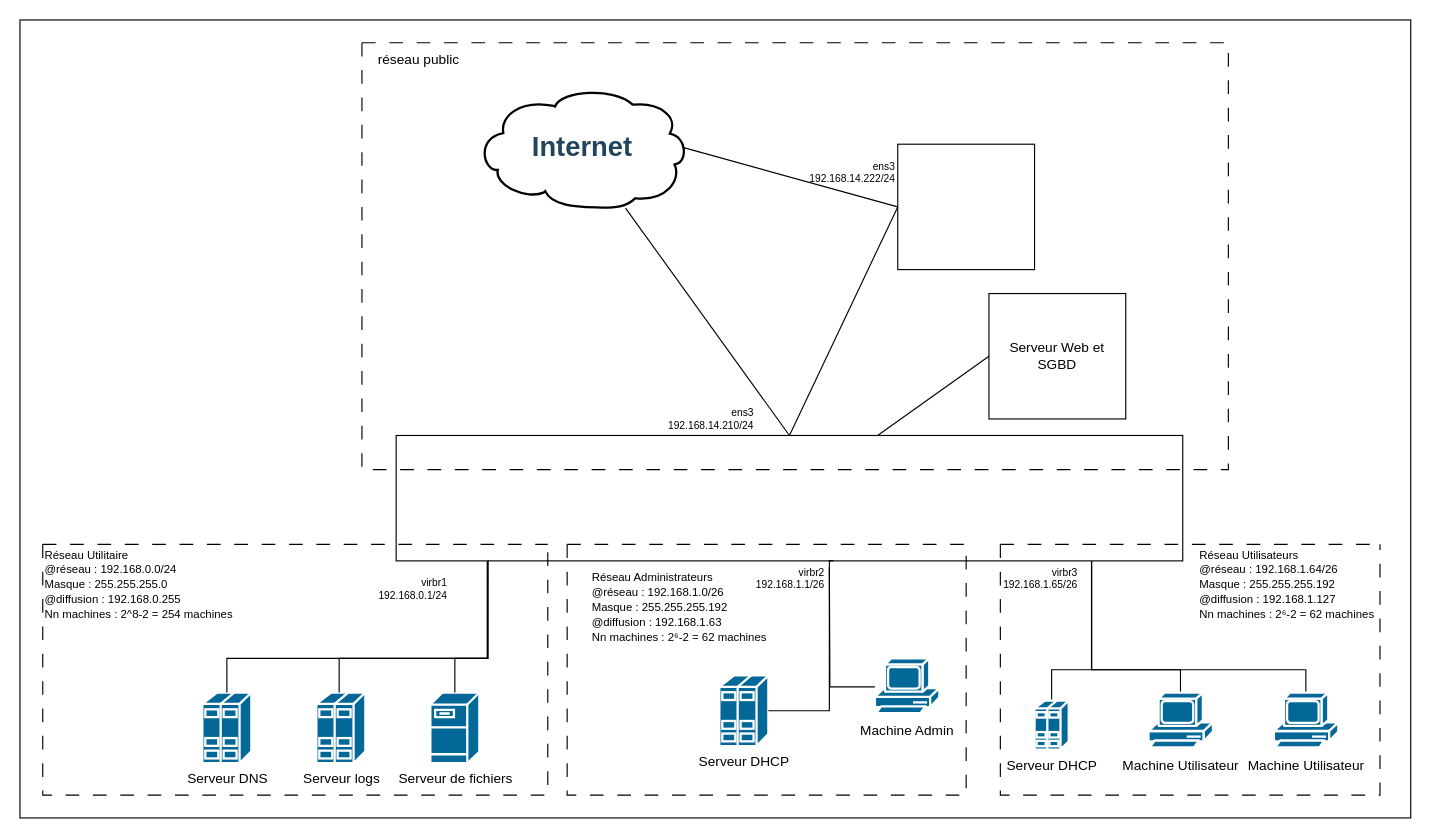
This 1431x838 diagram has some shape labels left out. The shapes that lost their labels are listed below. From the top down, each one's centre as x and y in pixels, then its label:
point 966,206: bastion SSH
point 789,497: vm-main : routeur + pare-feu + NAT
